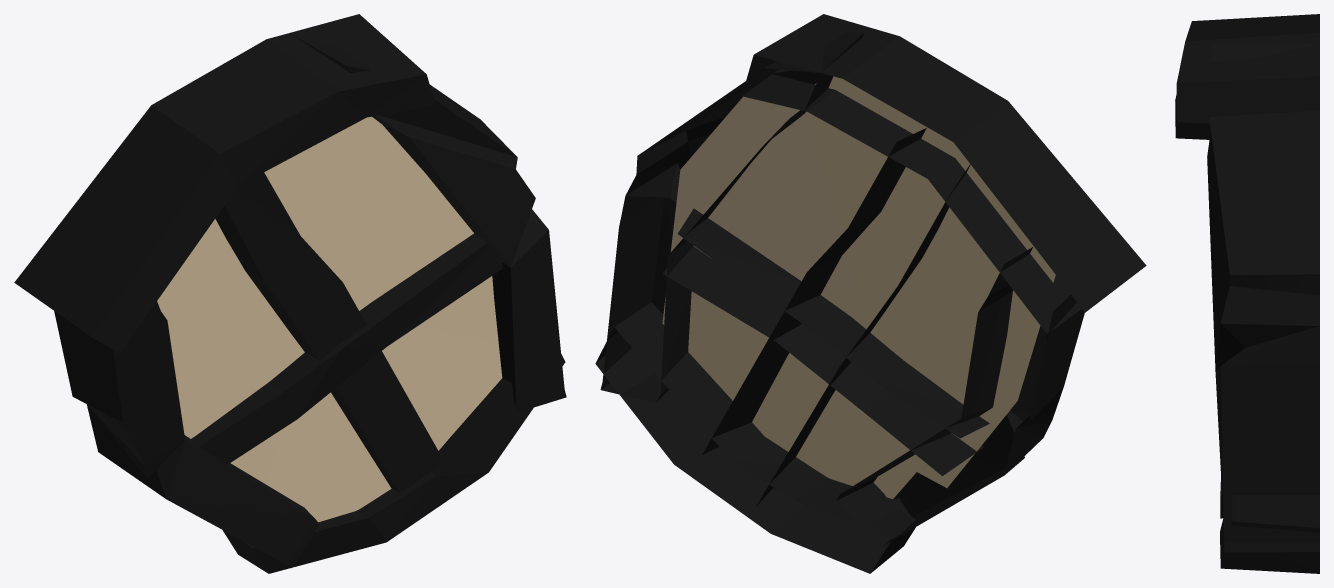
The model's file is WF_LP_HT_Build_Window.003.fbx.
3 renders of one model, left to right at view 1: azimuth 30°, elevation 25°; view 2: azimuth 150°, elevation 25°; view 3: azimuth 270°, elevation 25°, orthographic. The views are drawn at different scales.
Visible parts, largest first — view 1: WF_LP_HT_Build_Window.003; view 2: WF_LP_HT_Build_Window.003; view 3: WF_LP_HT_Build_Window.003.
Part boxes in pixels (x1,y1,x2,y2): WF_LP_HT_Build_Window.003: (14,14,566,573); WF_LP_HT_Build_Window.003: (595,14,1146,573); WF_LP_HT_Build_Window.003: (1175,14,1319,573).
Bounding box in the file's own units: 1.27 × 1.22 × 0.3063.
